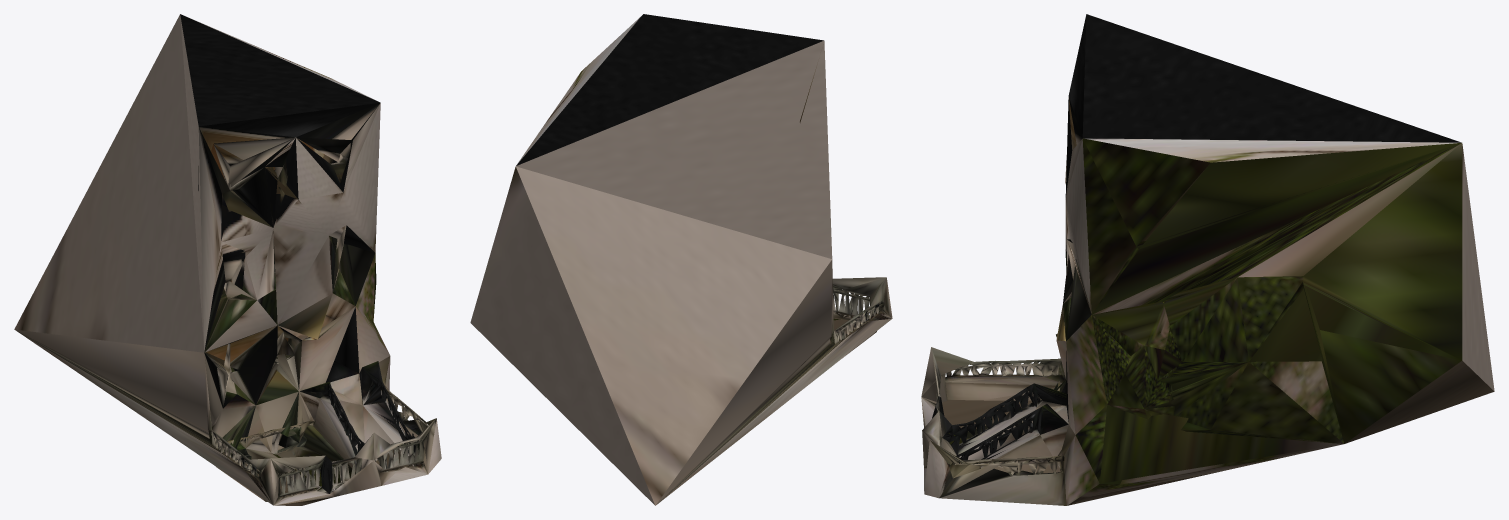
File: CF_Building_IvyTownhouseWhite_01_LOD4_v01.fbx
3 views of the same model, side by side, from view 1: azimuth 30°, elevation 25°; view 2: azimuth 150°, elevation 25°; view 3: azimuth 270°, elevation 25° (orthographic). The views are drawn at different scales.
Parts seen in each view (by area): view 1: CF_Building_IvyTownhouseWhite_01_LOD4_v01; view 2: CF_Building_IvyTownhouseWhite_01_LOD4_v01; view 3: CF_Building_IvyTownhouseWhite_01_LOD4_v01.
Boxes of the visible parts, x1=… form: CF_Building_IvyTownhouseWhite_01_LOD4_v01: x1=14, y1=14, x2=441, y2=505; CF_Building_IvyTownhouseWhite_01_LOD4_v01: x1=470, y1=14, x2=892, y2=505; CF_Building_IvyTownhouseWhite_01_LOD4_v01: x1=921, y1=14, x2=1494, y2=505.
Size of the model in its own units: 668 by 1060 by 1404.
1 material, 1 textured.
